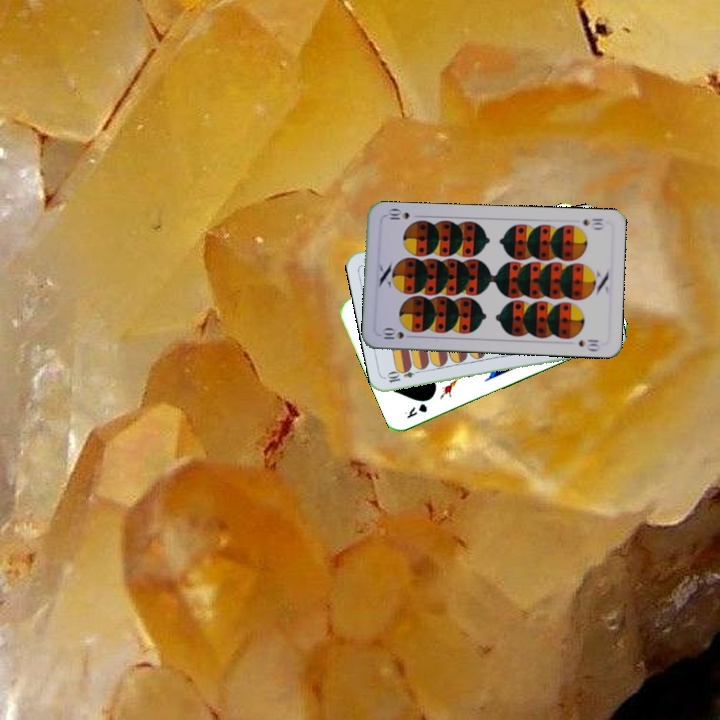E10: (383, 365, 424, 385)
GK: (400, 400, 430, 421)
S10: (376, 325, 406, 342), (578, 214, 606, 232)
